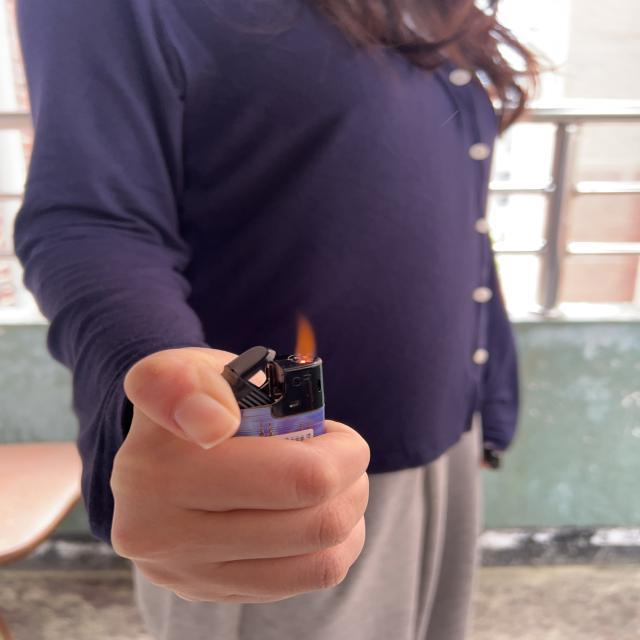fire: (292, 310, 318, 366)
